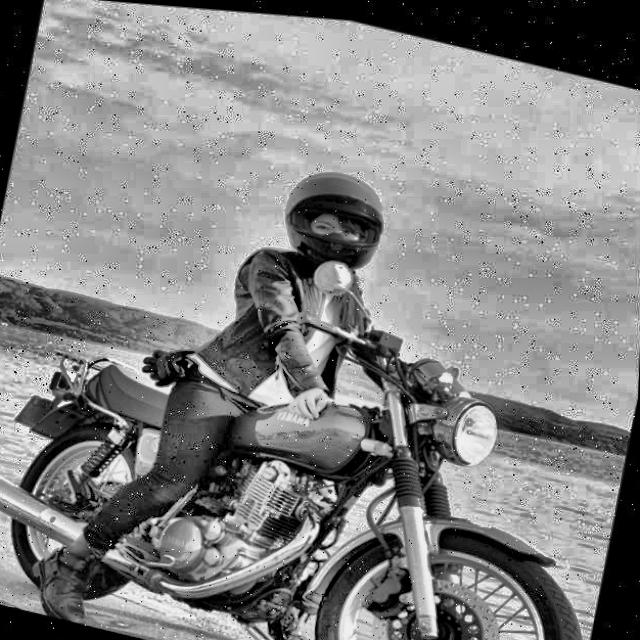Helmet: (272, 150, 398, 276)
